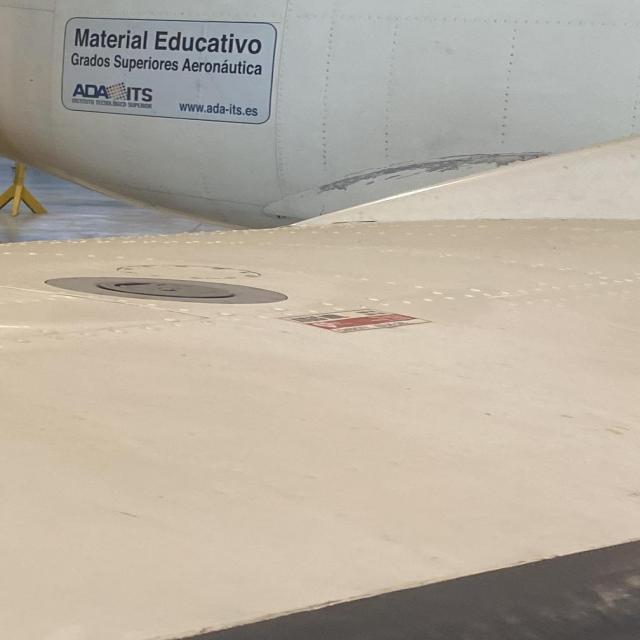Scratch: (318, 150, 550, 192)
